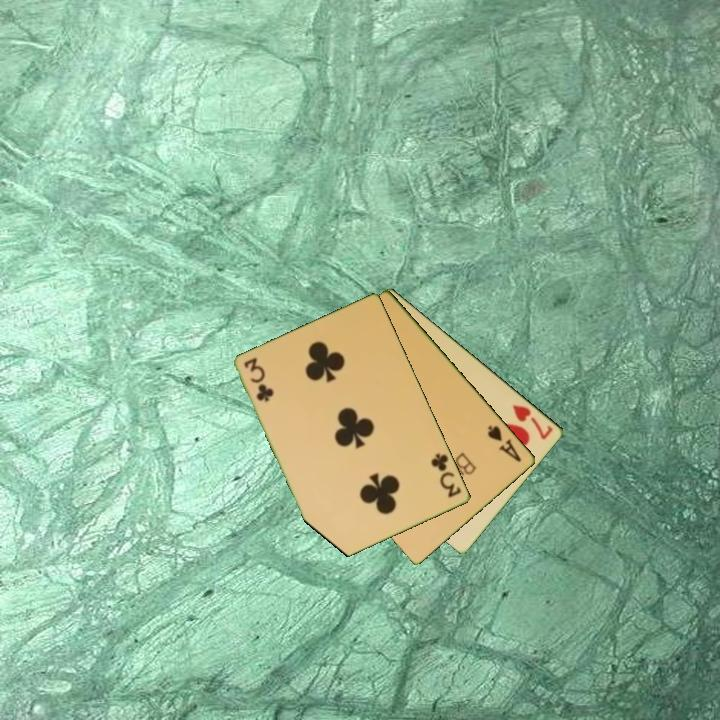3c: (428, 450, 464, 501), (241, 354, 276, 405)
7h: (509, 401, 556, 442)
As: (484, 421, 524, 465)
